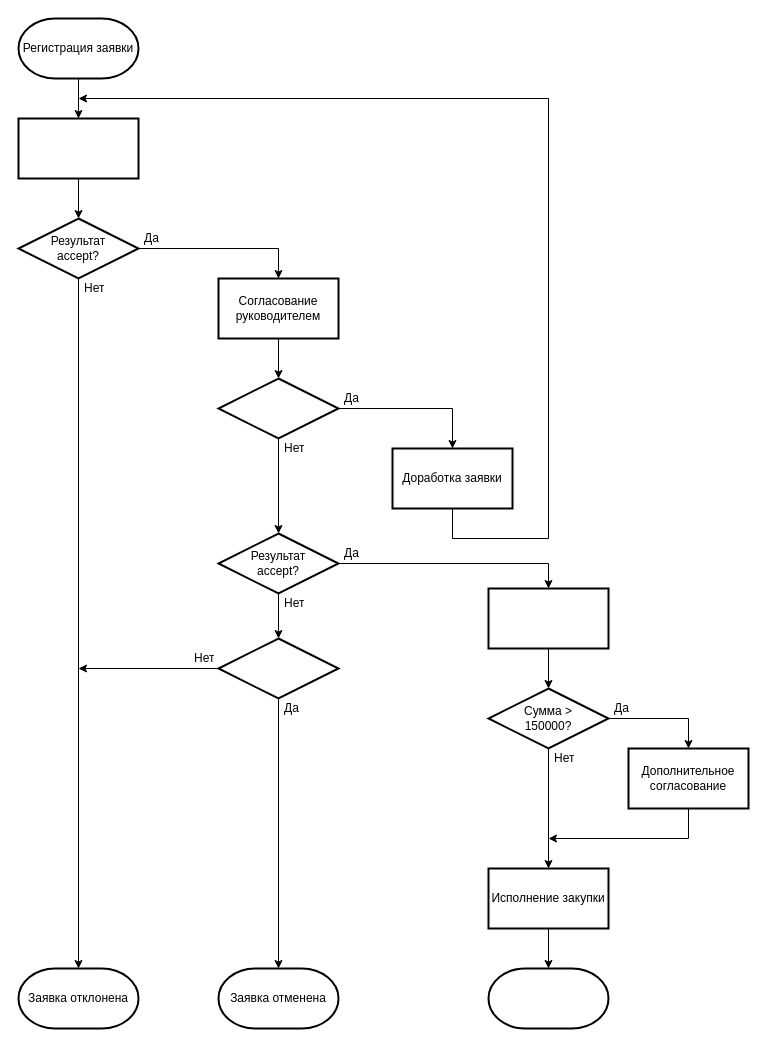
This 766x1046 diagram has some shape labels left out. The shapes that lost their labels are listed below. From the top down, each one's box as (x1, y1, x2, y2) in pixels, then its label:
(17, 117, 139, 179): Первичная проверка
(217, 377, 339, 439): Результат return?
(487, 587, 609, 649): Проверка бюджета
(217, 637, 339, 699): Результат cancel?
(487, 967, 609, 1029): Заявка выполнена
